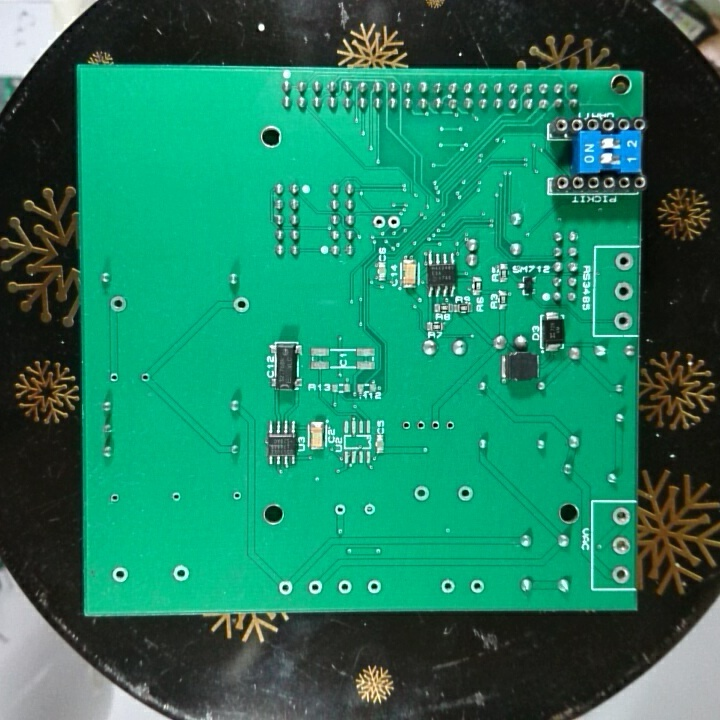F: (613, 279, 636, 303), (274, 576, 297, 600), (169, 561, 191, 586), (229, 295, 254, 317), (612, 311, 635, 334), (107, 293, 130, 316), (610, 535, 634, 557), (613, 251, 635, 273), (610, 563, 631, 586), (411, 482, 432, 504), (110, 565, 132, 585), (610, 506, 631, 526), (454, 483, 475, 503), (466, 577, 488, 596), (334, 578, 354, 598), (438, 577, 457, 598), (307, 577, 325, 598), (364, 576, 382, 596), (360, 500, 377, 520), (371, 213, 388, 231), (385, 214, 401, 233), (332, 502, 348, 520), (169, 489, 184, 507), (443, 418, 459, 434), (230, 487, 244, 504), (137, 369, 151, 386), (107, 492, 122, 507), (107, 369, 120, 386), (399, 418, 414, 432), (429, 419, 442, 433), (414, 419, 429, 431)
